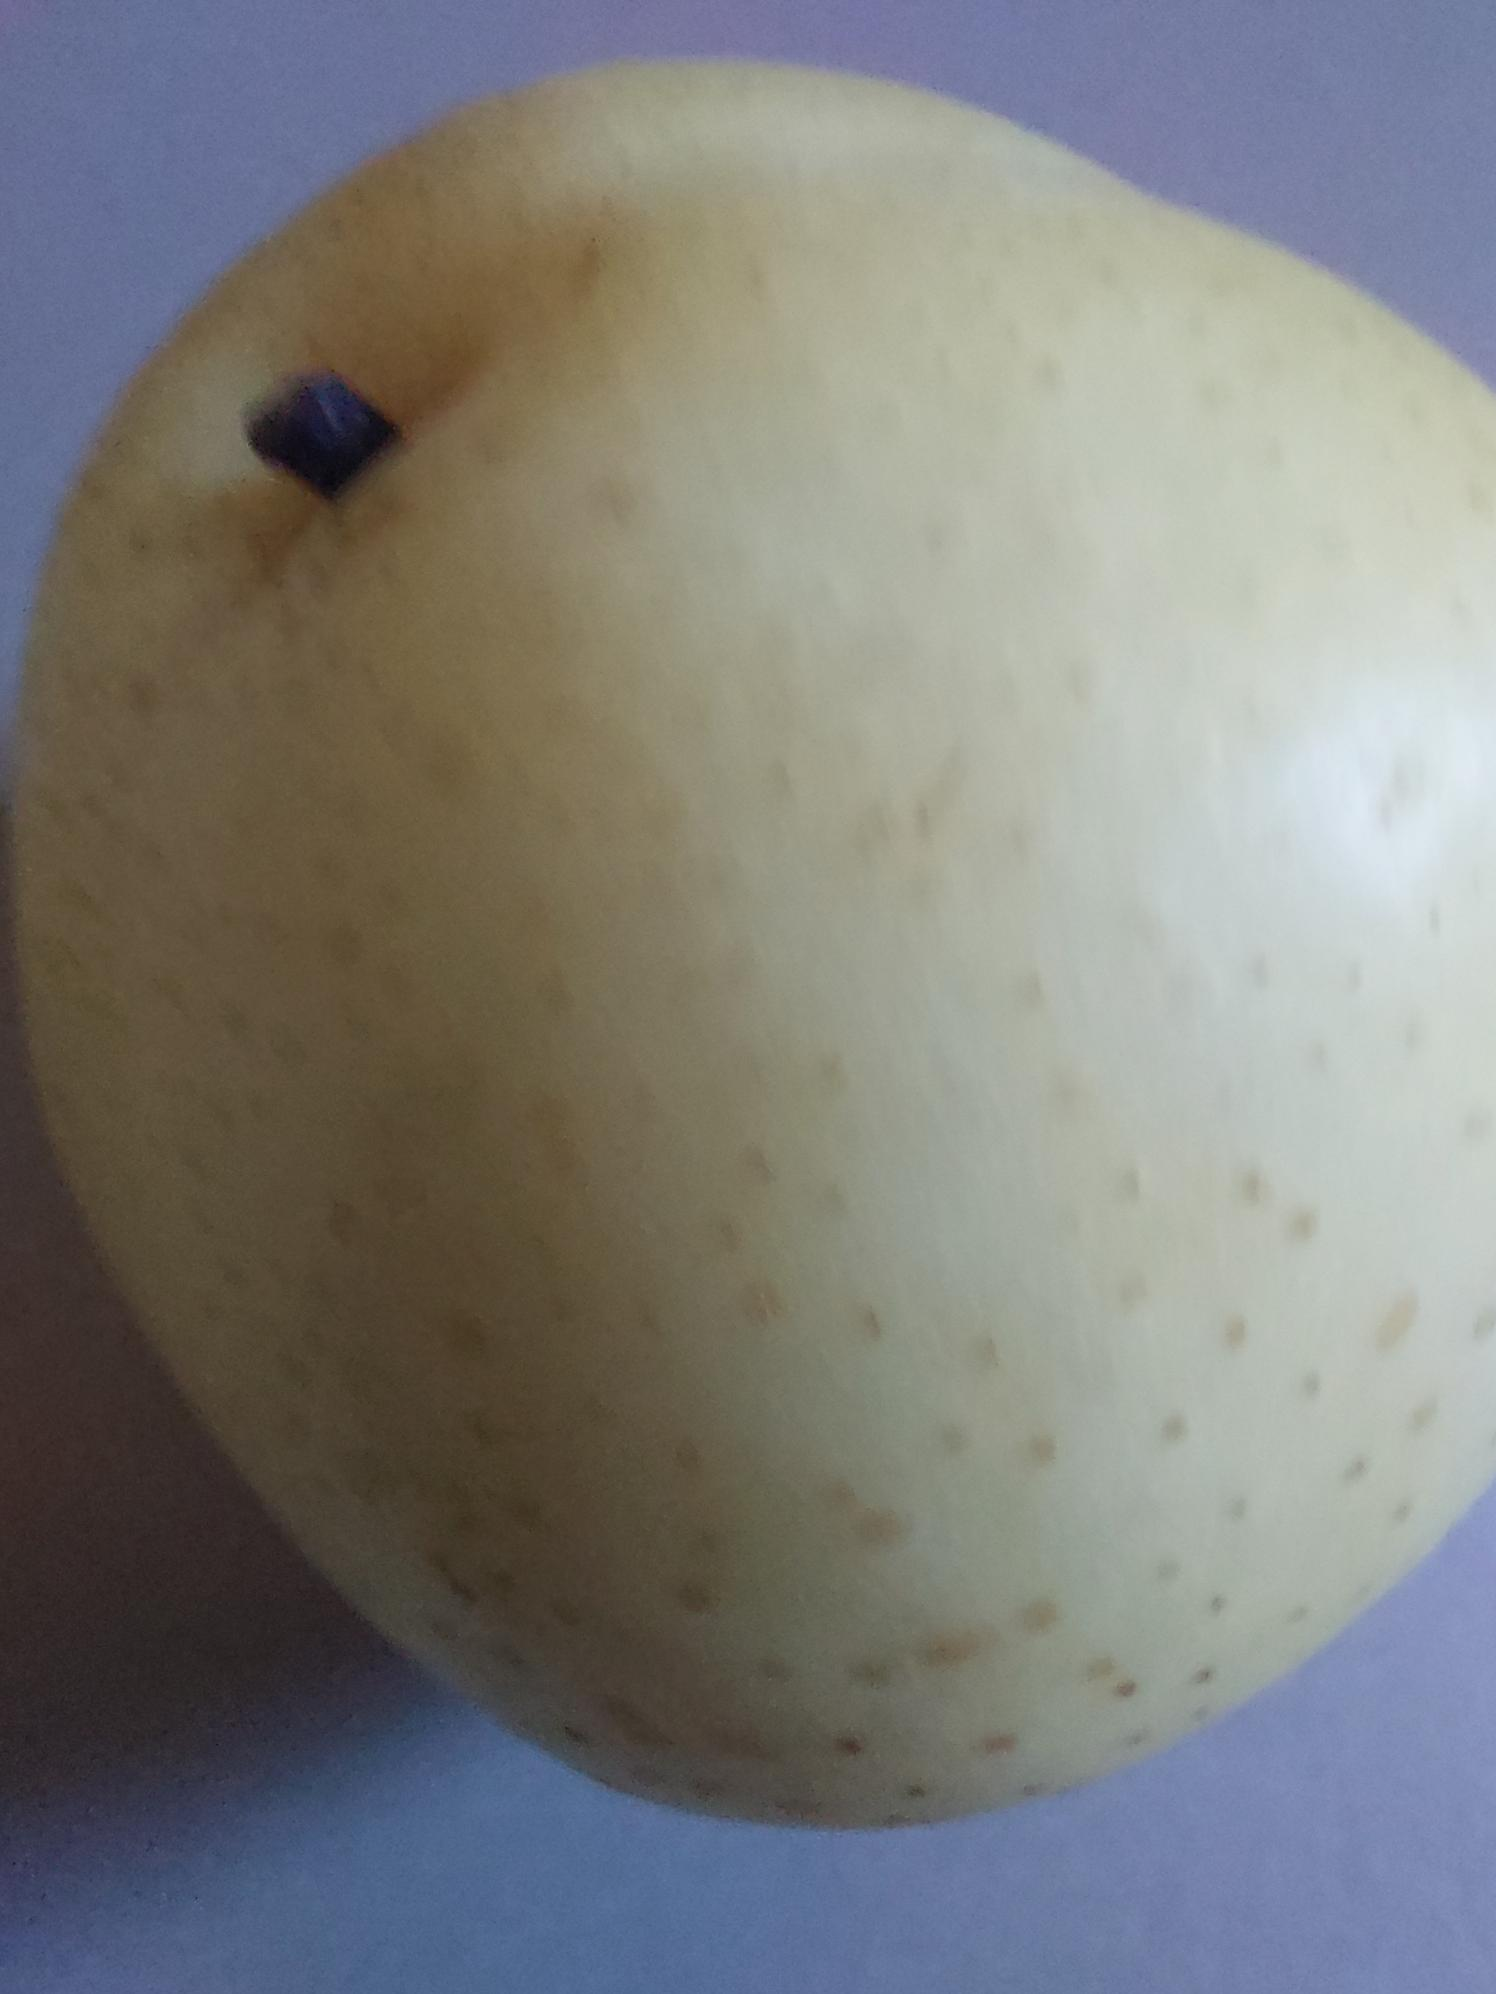Good Pear: (0, 31, 1496, 1868)
